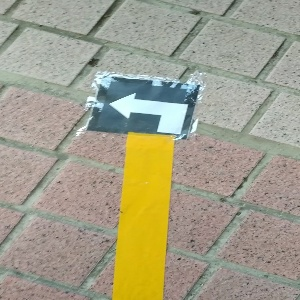left: (85, 73, 200, 136)
